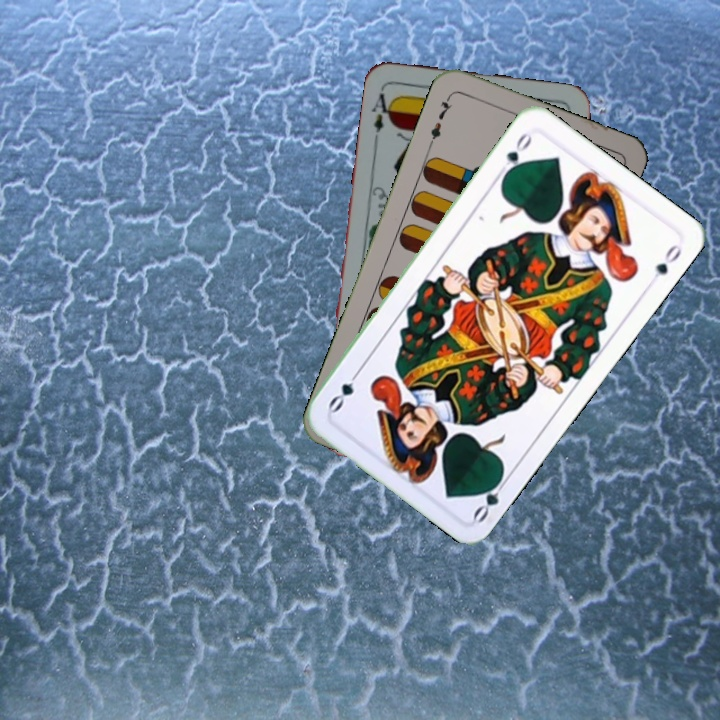E7: (425, 92, 454, 148)
EA: (368, 89, 397, 143)
GO: (469, 469, 512, 525), (499, 128, 535, 181)
